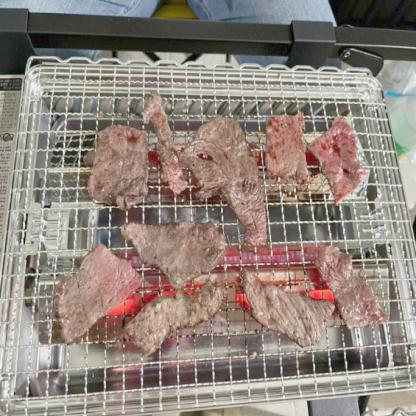Carne: (188, 116, 264, 244), (53, 247, 145, 343), (121, 217, 231, 290), (126, 280, 238, 344), (306, 244, 386, 326), (246, 270, 338, 338), (256, 105, 312, 189), (315, 119, 372, 201), (90, 124, 146, 206)
